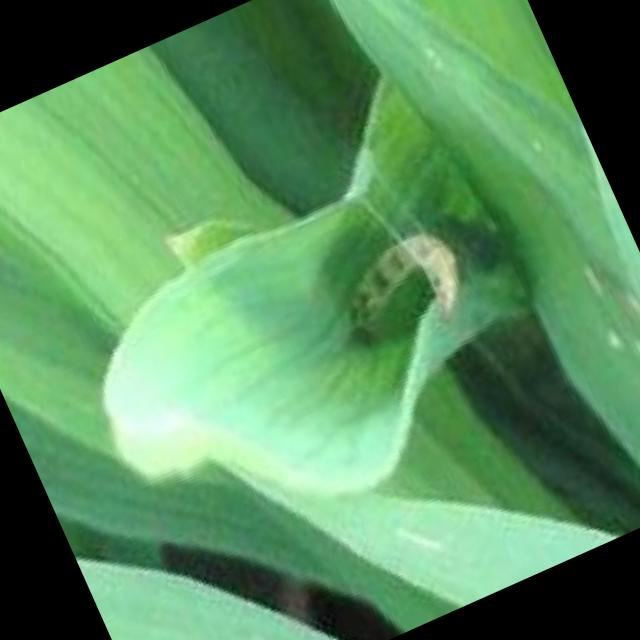leaf-folder: (300, 180, 488, 370)
